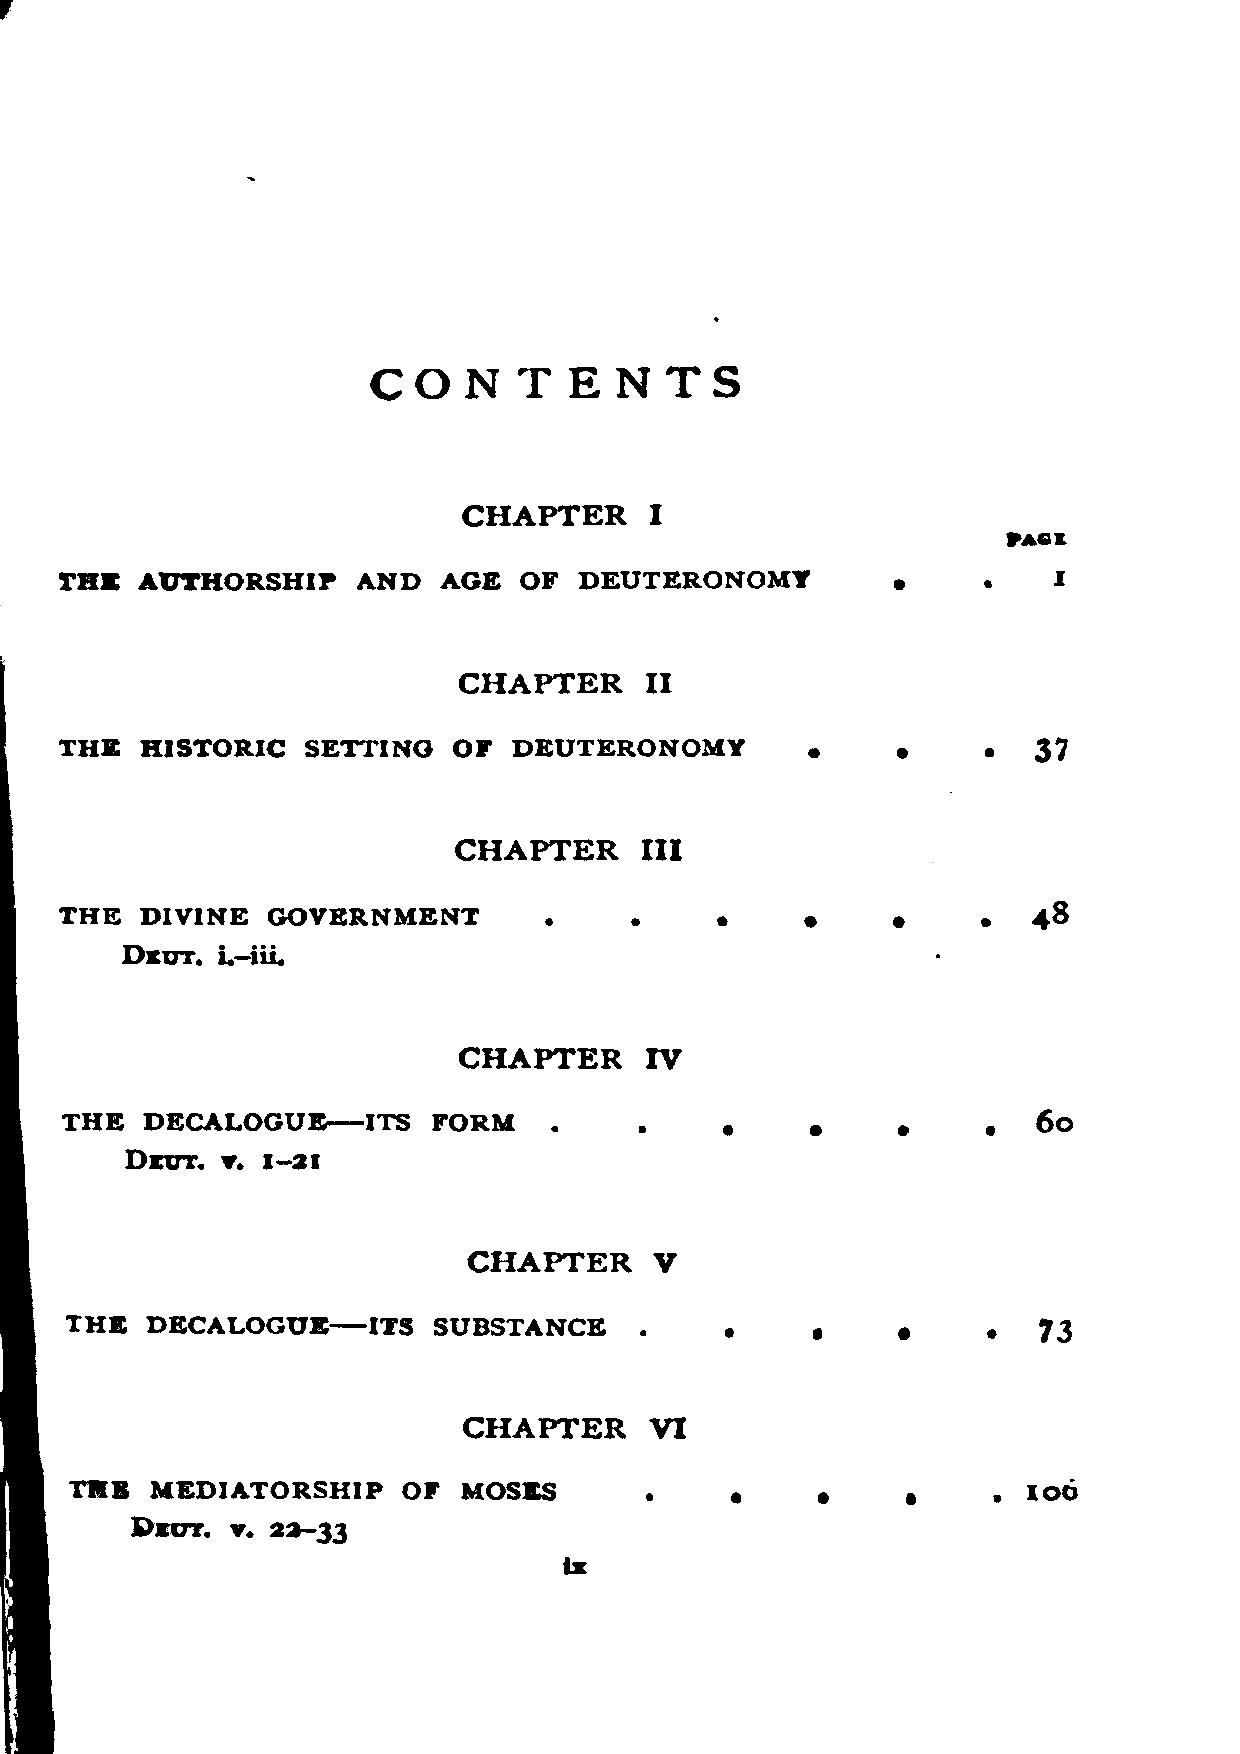TOC_chapter: (56, 896, 683, 976), (68, 1475, 566, 1547), (60, 1107, 519, 1180), (54, 568, 816, 595), (56, 733, 752, 760), (60, 1311, 613, 1339), (456, 1041, 686, 1076), (451, 833, 688, 867), (460, 1412, 691, 1445), (460, 1244, 679, 1279), (460, 498, 672, 527), (454, 670, 672, 697)
TOC_pagenumber: (1021, 1476, 1079, 1512), (1031, 894, 1074, 937), (1035, 1311, 1078, 1346), (1033, 734, 1074, 768), (1032, 1104, 1078, 1133), (1039, 557, 1072, 589)
chapter: (365, 362, 745, 405)
content_pagenumber: (556, 1554, 595, 1584)
